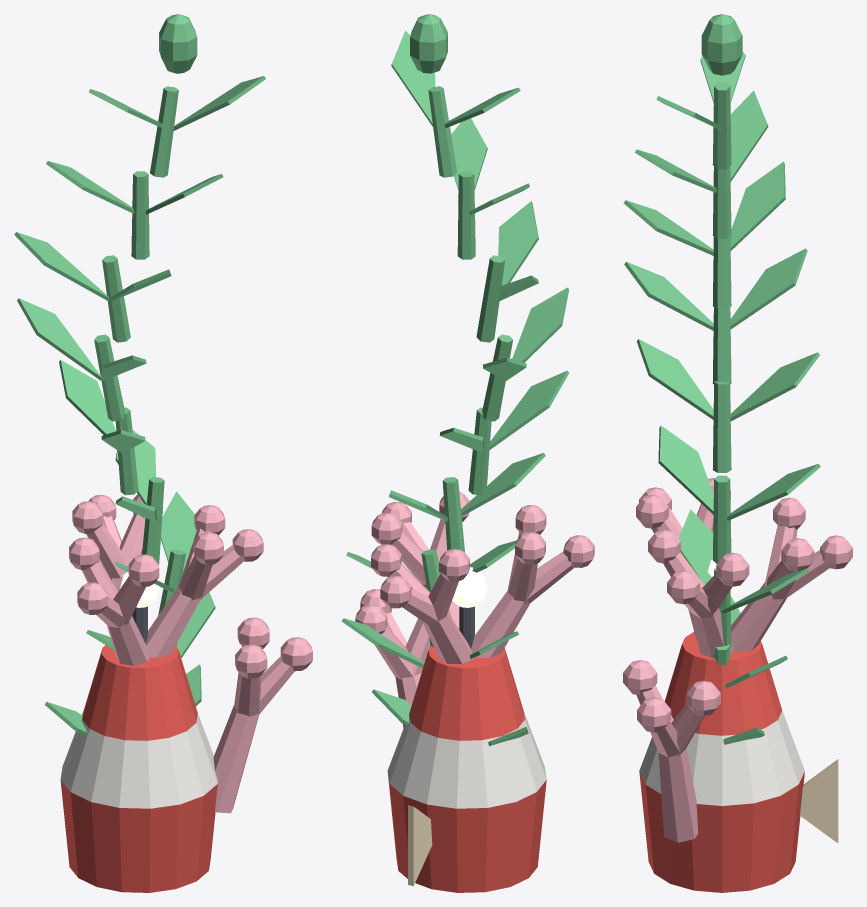
Rendered from elements.glb.
3 views of the same model, side by side, from view 1: azimuth 30°, elevation 25°; view 2: azimuth 150°, elevation 25°; view 3: azimuth 270°, elevation 25° (orthographic). The views are drawn at different scales.
Parts seen in each view (by area): view 1: EL_Buoy, UW_Kelp, UW_Coral; view 2: EL_Buoy, UW_Kelp, UW_Coral, UW_Fish; view 3: UW_Kelp, EL_Buoy, UW_Coral, UW_Fish.
Boxes of the visible parts, bbox=[...] form: EL_Buoy: bbox=[60, 572, 217, 892]; UW_Kelp: bbox=[14, 14, 265, 735]; UW_Coral: bbox=[69, 494, 312, 813]; EL_Buoy: bbox=[387, 567, 546, 892]; UW_Kelp: bbox=[341, 14, 568, 746]; UW_Coral: bbox=[355, 491, 594, 728]; UW_Fish: bbox=[408, 805, 432, 886]; UW_Kelp: bbox=[623, 14, 820, 744]; EL_Buoy: bbox=[639, 559, 804, 892]; UW_Coral: bbox=[623, 478, 852, 842]; UW_Fish: bbox=[800, 759, 838, 843].
Size of the model in its own units: 2.08 by 7.16 by 1.72.
